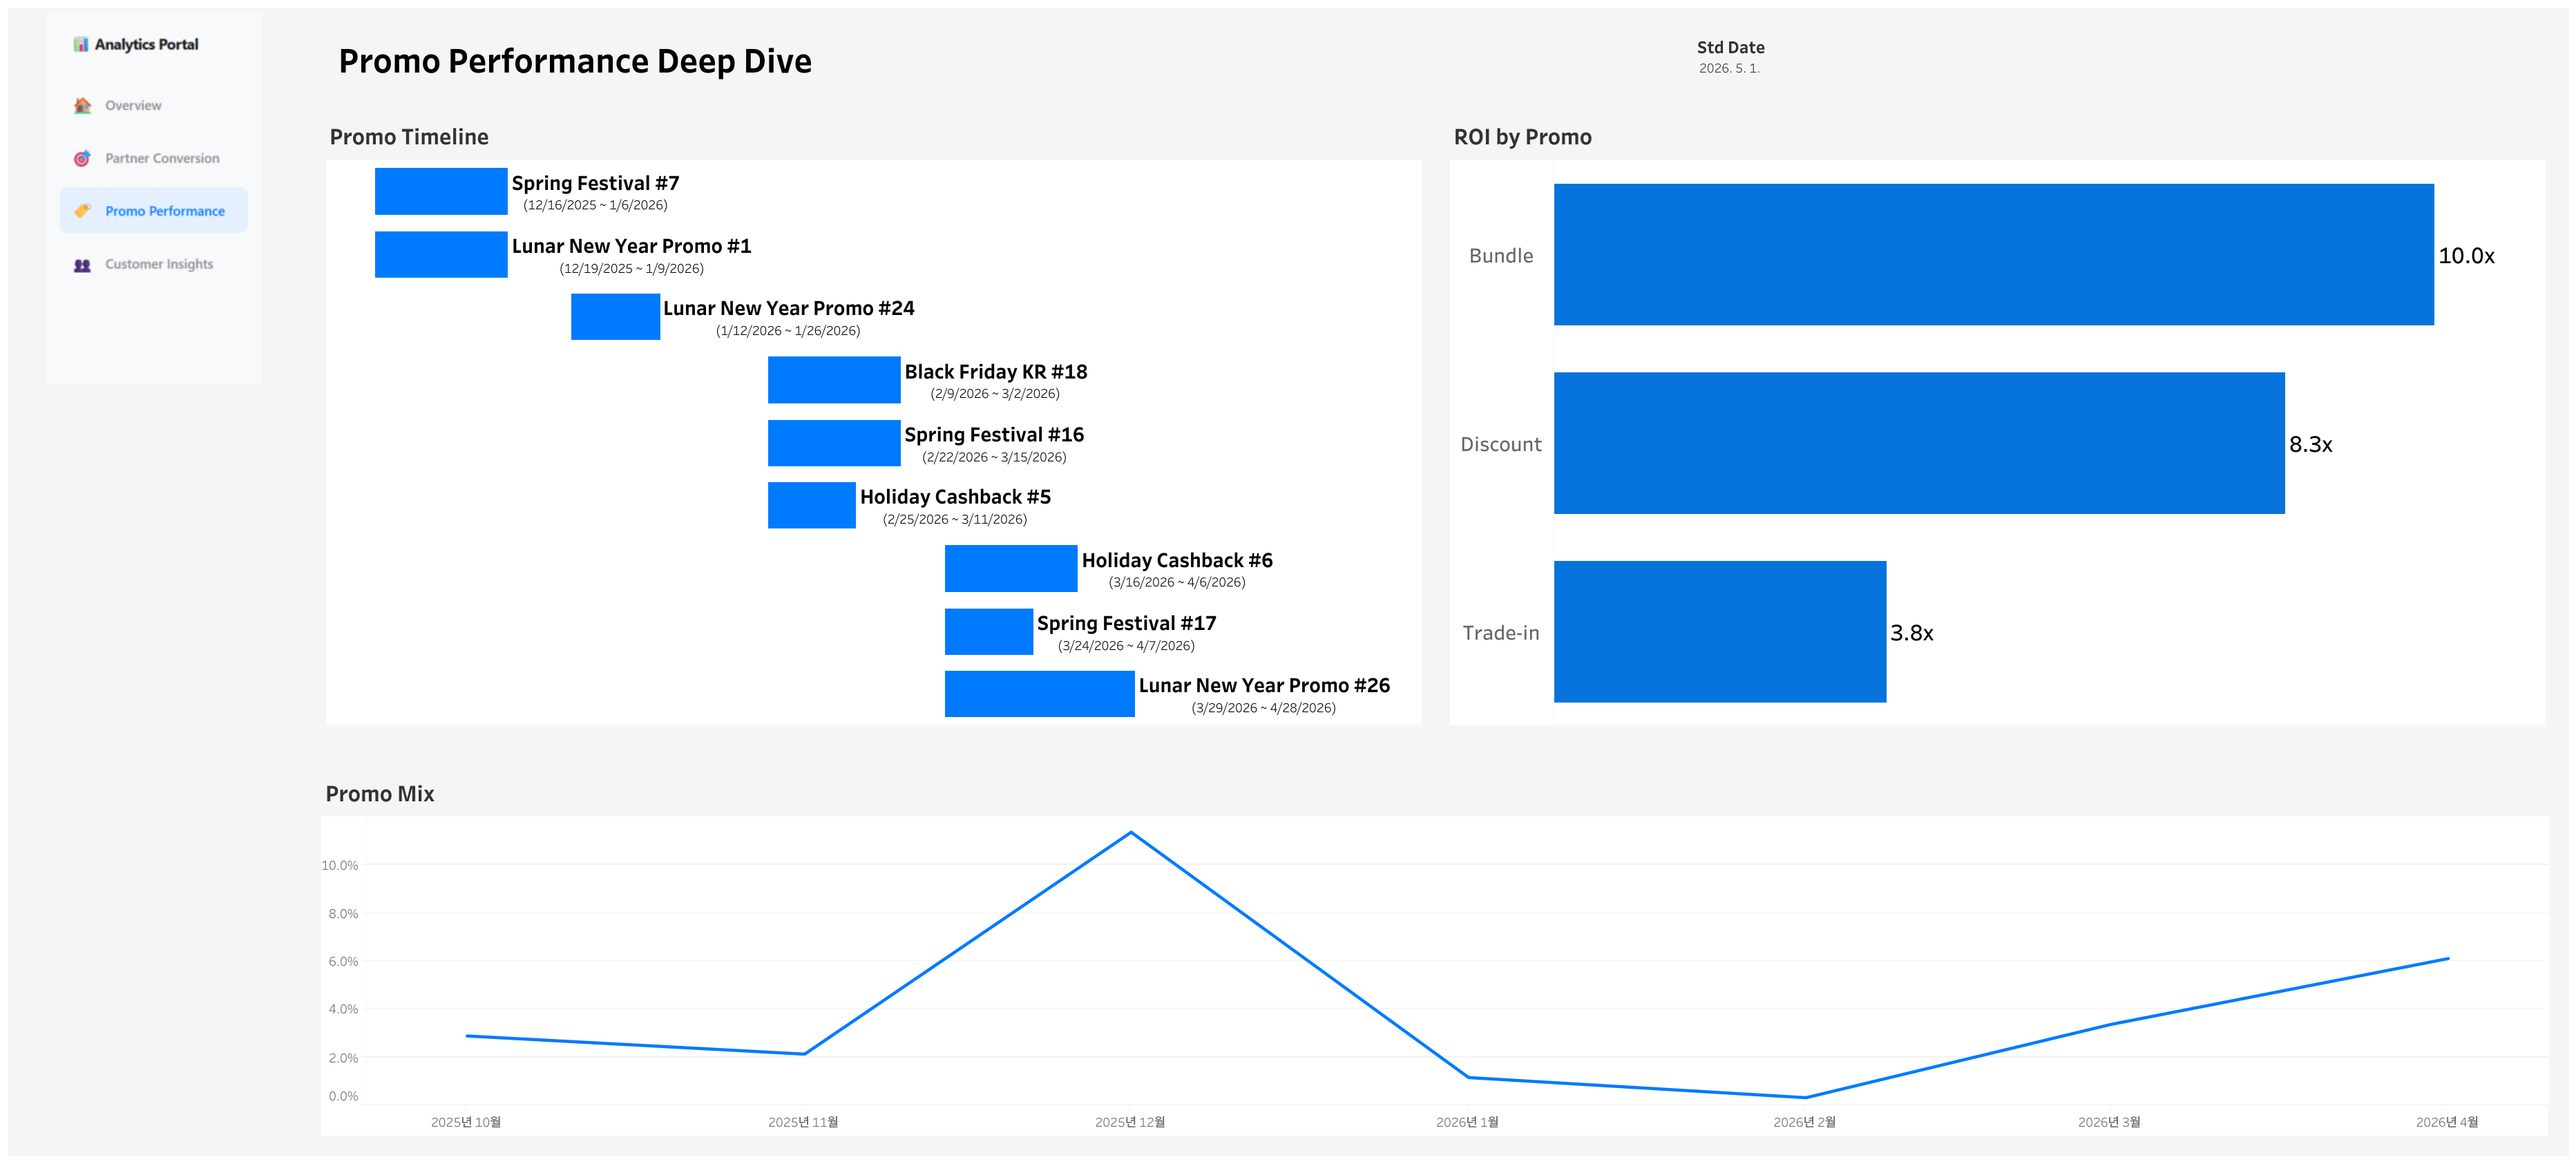

The dashboard page shown, as its layout file describes it:
{"tool":"tableau","page":{"name":"Promo Performance","canvas":[1000,1000],"units":"permille","ordinal":3},"visuals":[{"type":"image","param":"Image/dash3.png","box":[2.4,4.2,113.5,328.7]},{"type":"text","box":[124.8,14.8,511.6,58.9]},{"type":"parameter","param":"[Parameters].[매개 변수 2]","box":[654.1,14.8,79.2,58.9]},{"type":"parameter","param":"[Parameters].[매개 변수 1]","box":[733.3,14.8,79.2,58.9]},{"type":"blank","box":[830.3,14.8,155.5,58.9]},{"type":"blank","box":[985.8,14.8,3,58.9]},{"type":"dashboard-object","box":[12.1,74.8,93.1,39.8]},{"type":"worksheet","title":"Promo Timeline","mark":"GanttBar","rows":["promo_name"],"cols":["start_date"],"box":[121.8,84.3,434.9,549.8]},{"type":"worksheet","title":"ROI by Promo","mark":"Automatic","rows":["offer_type"],"cols":["Calculation_1445649954816005"],"box":[556.8,84.3,434.9,549.8]},{"type":"dashboard-object","box":[12.4,116.1,93.1,39.8]},{"type":"dashboard-object","box":[12.1,158.5,93.1,39.8]},{"type":"dashboard-object","box":[12.1,211.6,93.1,39.8]},{"type":"blank","box":[2.4,333,113.5,662.8]},{"type":"worksheet","title":"Promo Mix","mark":"Automatic","rows":["Calculation_0753232079548425"],"cols":["sale_date"],"box":[115.9,644.8,881.7,351]}]}

Visuals, with their boxes on the dashboard's canvas, which has no fixed pixel size, in thousandths of its width and height (x1, y1, x2, y2). These are canvas units, not pixel positions in the 2576x1164 screenshot, which may show the page scaled, cropped or inside an application window:
image: (2,4,116,333)
text: (125,15,636,74)
parameter: (654,15,733,74)
parameter: (733,15,812,74)
blank: (830,15,986,74)
blank: (986,15,989,74)
dashboard-object: (12,75,105,115)
"Promo Timeline" worksheet (GanttBar marks): (122,84,557,634)
"ROI by Promo" worksheet: (557,84,992,634)
dashboard-object: (12,116,106,156)
dashboard-object: (12,158,105,198)
dashboard-object: (12,212,105,251)
blank: (2,333,116,996)
"Promo Mix" worksheet: (116,645,998,996)
